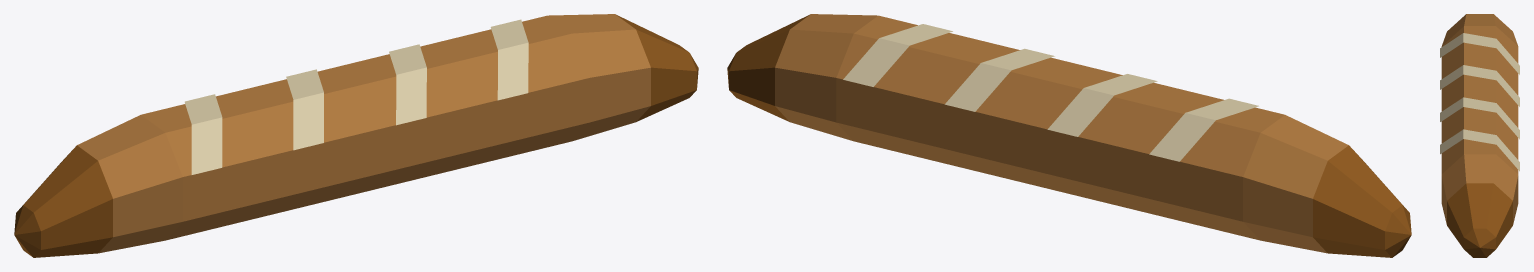
File: baguette-4eb3a2.glb
3 views of the same model, side by side, from view 1: azimuth 30°, elevation 25°; view 2: azimuth 150°, elevation 25°; view 3: azimuth 270°, elevation 25° (orthographic). The views are drawn at different scales.
Visible parts, largest first — view 1: baguette; view 2: baguette; view 3: baguette.
Boxes of the visible parts, x1,y1,x2,y2 form: baguette: (14,14,698,257); baguette: (727,14,1411,257); baguette: (1440,14,1519,257).
Bounding box in the file's own units: 0.626 × 0.096 × 0.0978.
